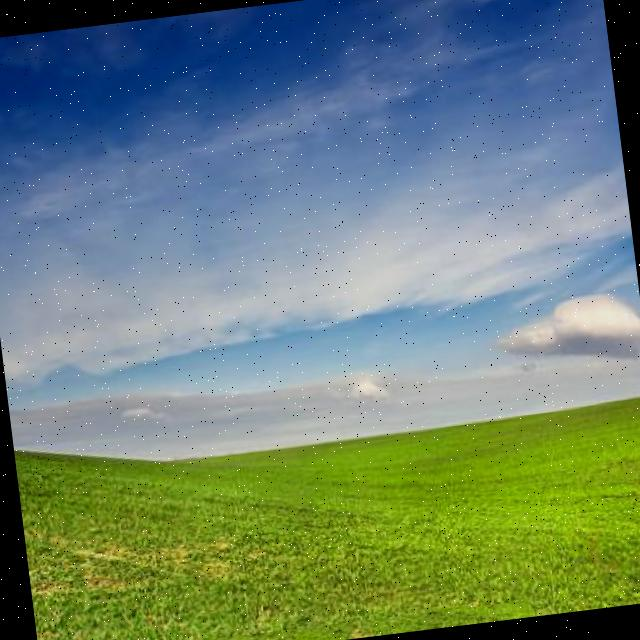Cc: (1, 49, 640, 443)
